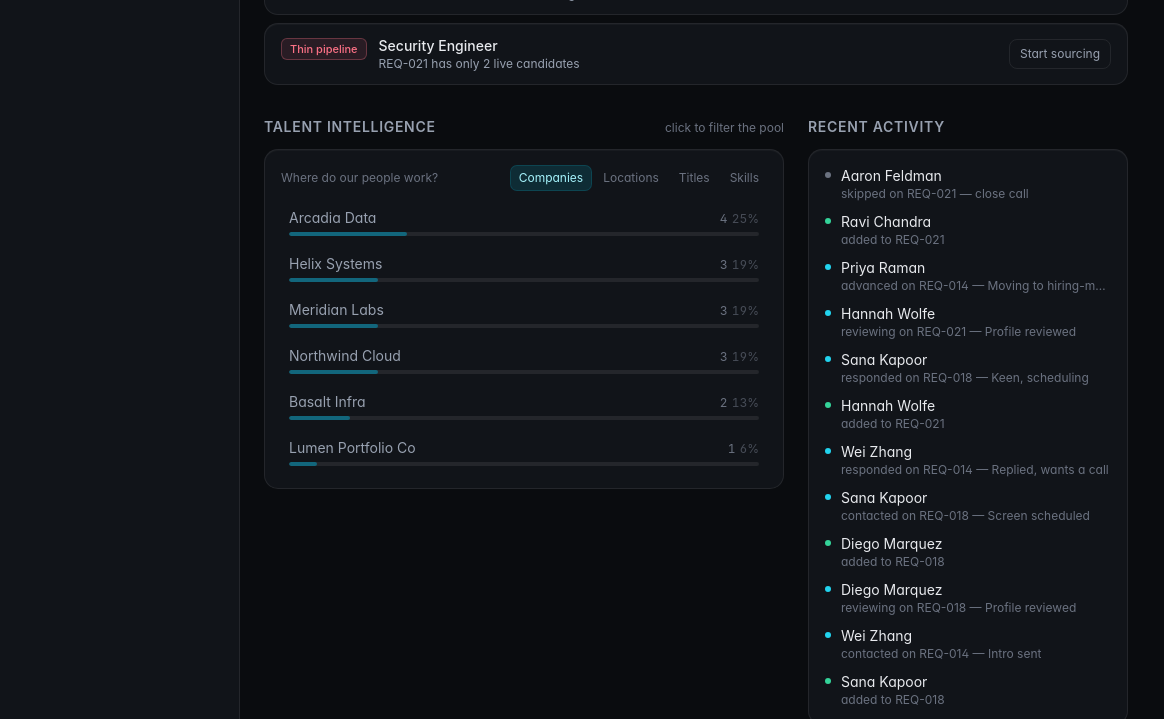
Scenario: 3. talent intelligence › the filter can be cleared
(page scrolled)
Click the button "Northwind Cloud 319%" at (345,355), box [281,340,767,380]
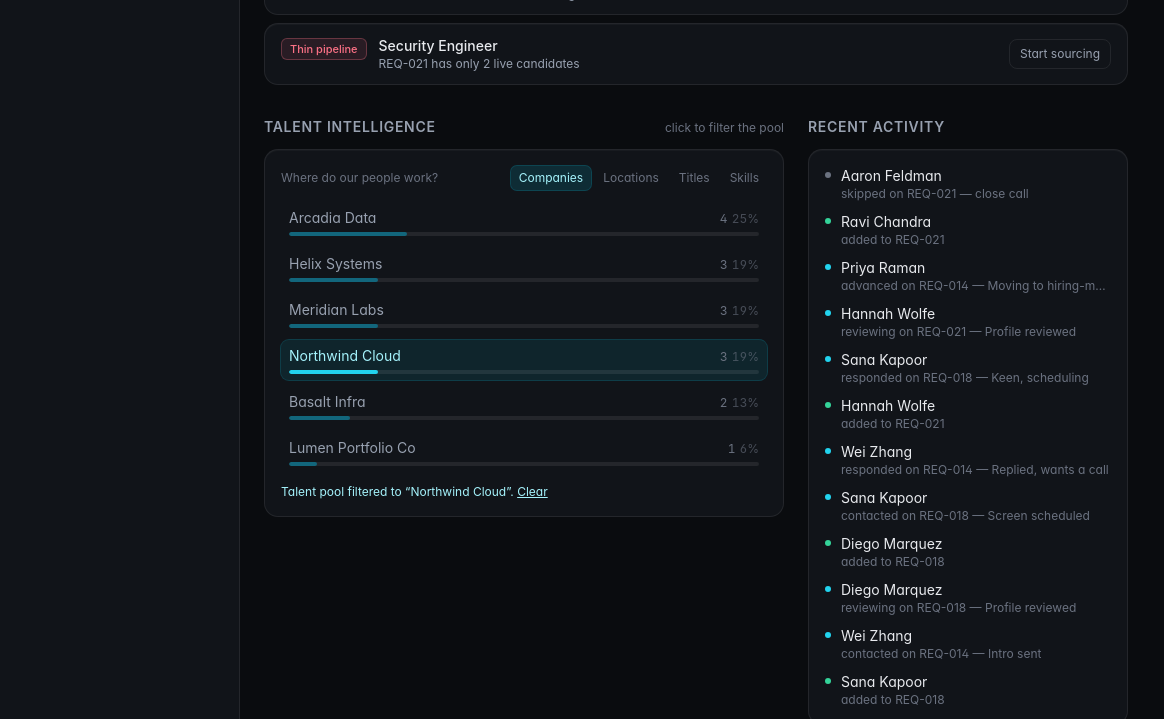
Click the button "Clear" at (532,492), box [517,484,548,500]
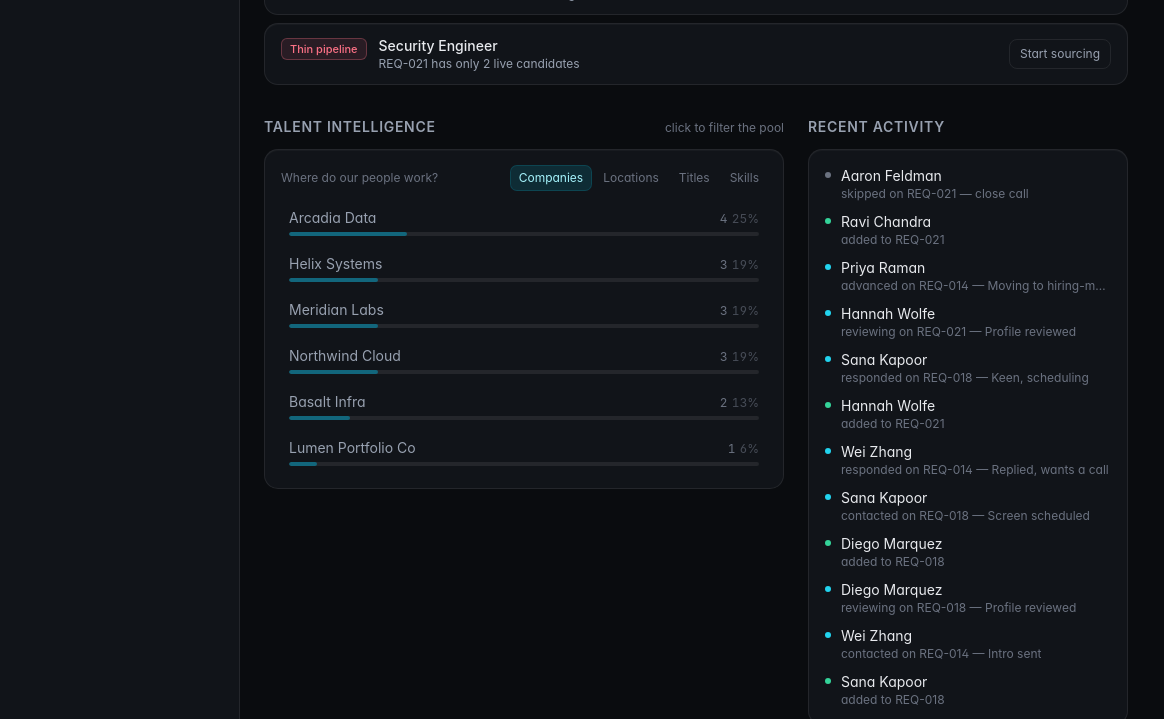
Expected: the text "filtered to" is gone
